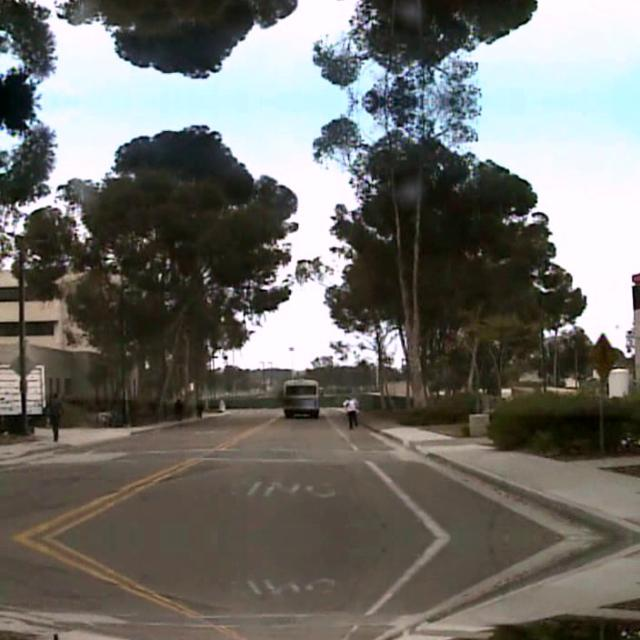pedestrianCrossing: (584, 329, 618, 376)
